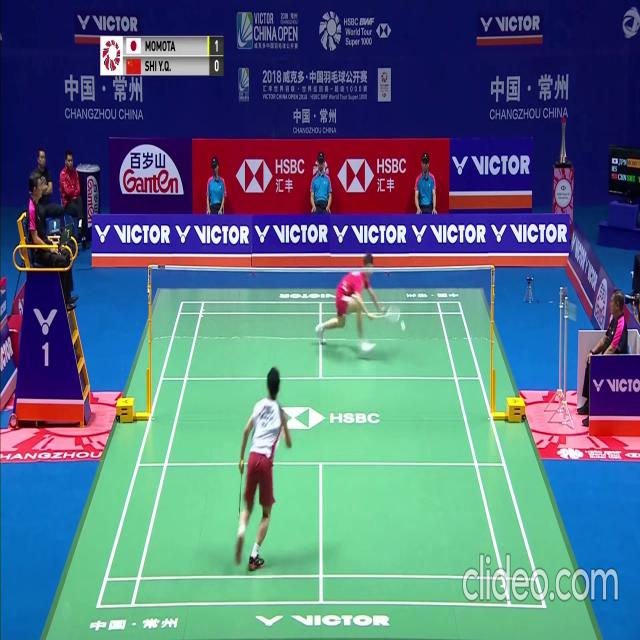Shuttlecock: (401, 321, 405, 328)
